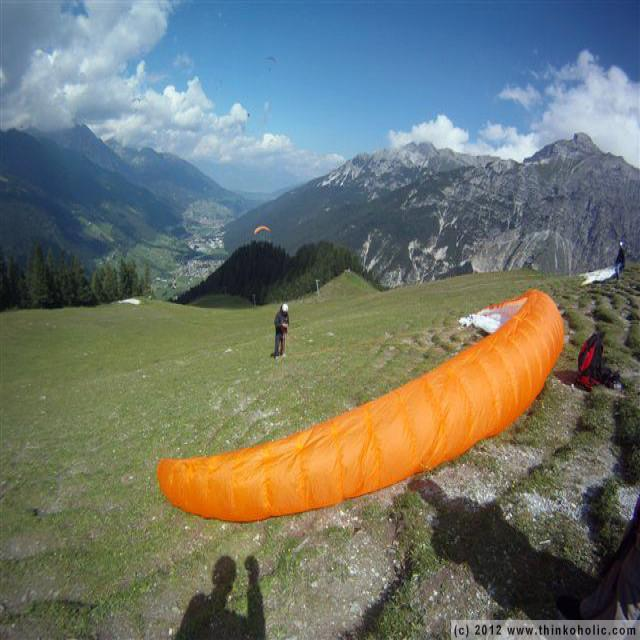paraglider: (156, 286, 564, 522)
